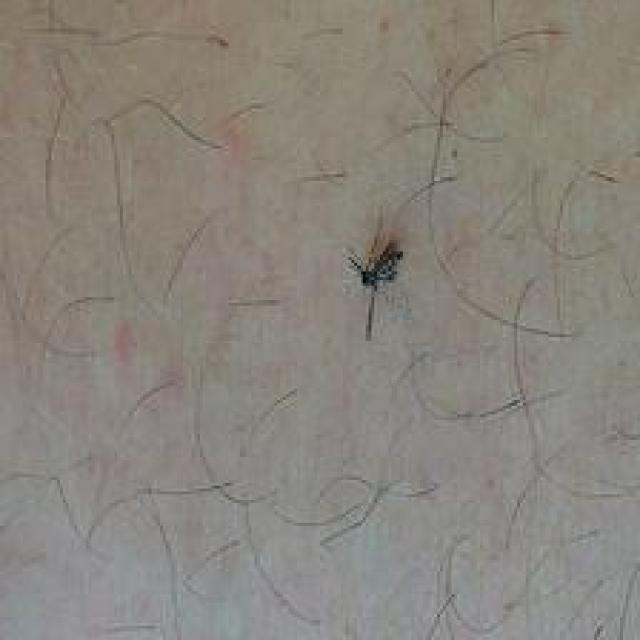Aedes albopictus: (346, 233, 406, 338)
